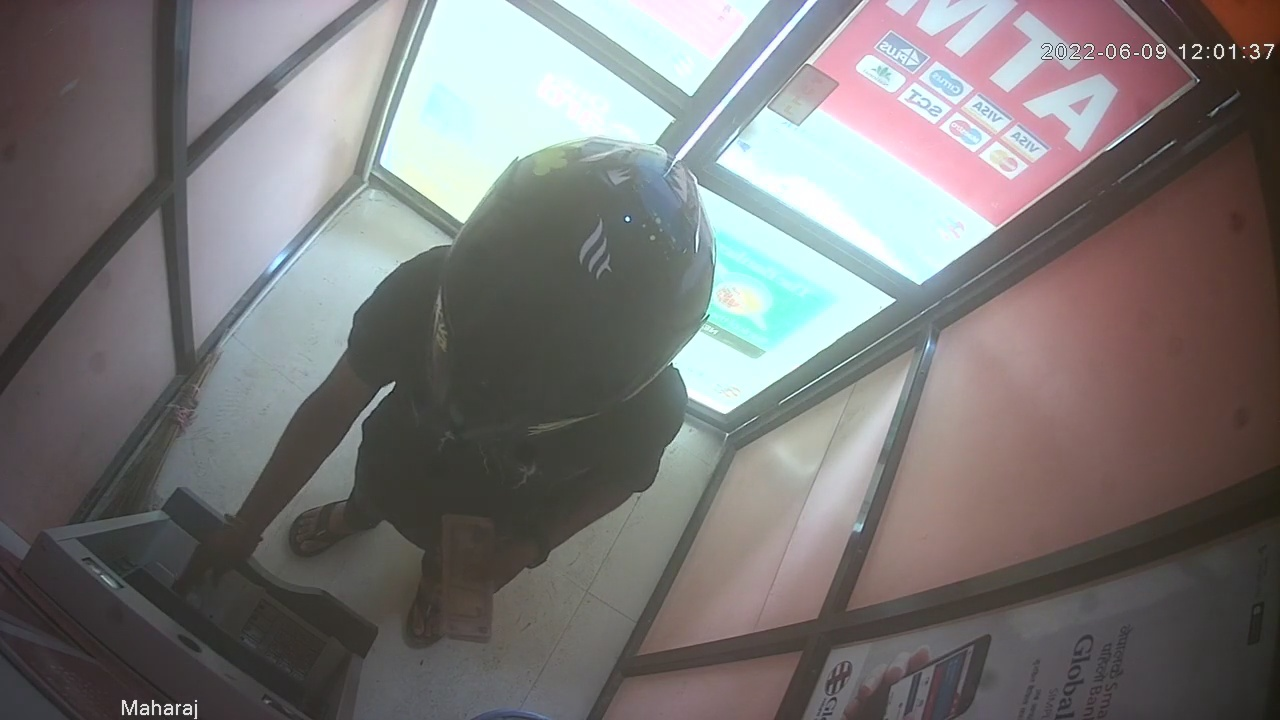helmet: (422, 134, 712, 441)
person: (175, 134, 716, 652)
